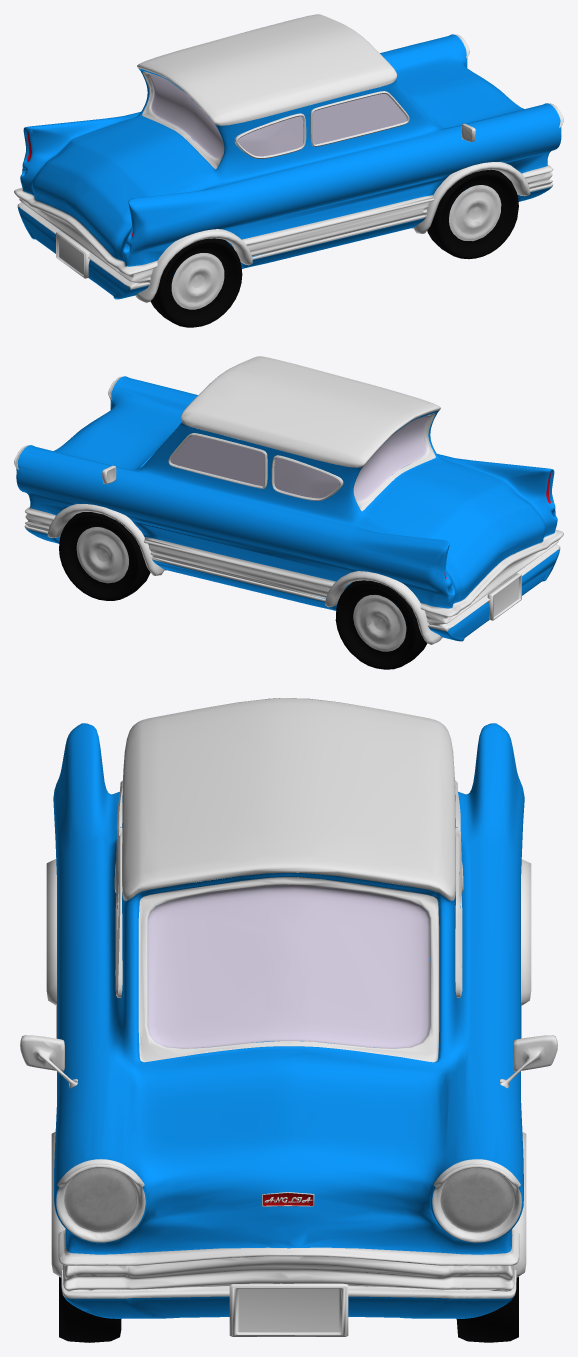
File: car-retro-compact.60f65b4d.glb
The picture shows the model from 3 angles, top to bottom: view 1: azimuth 30°, elevation 25°; view 2: azimuth 150°, elevation 25°; view 3: azimuth 270°, elevation 25°; orthographic projection. The views are drawn at different scales.
Visible parts, largest first — view 1: Ford Anglia (×8); view 2: Ford Anglia (×8); view 3: Ford Anglia (×7).
Boxes of the visible parts, x1=… form: Ford Anglia (×8): x1=14, y1=14, x2=563, y2=327; Ford Anglia (×8): x1=14, y1=356, x2=563, y2=669; Ford Anglia (×7): x1=20, y1=698, x2=557, y2=1342.
Bounding box in the file's own units: 21.53 × 9.51 × 11.4.
Materials: 11 (1 with a texture image).
